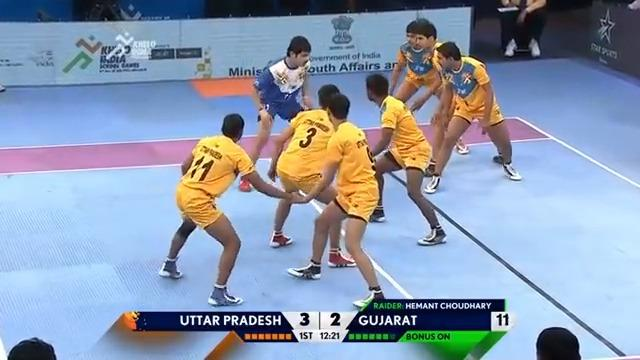Player: (156, 110, 297, 307), (286, 92, 387, 309), (423, 40, 522, 193), (363, 73, 447, 246), (387, 18, 470, 175)
Raider: (238, 35, 312, 192)
referee: (497, 0, 548, 58), (534, 326, 581, 359), (6, 336, 57, 359)
